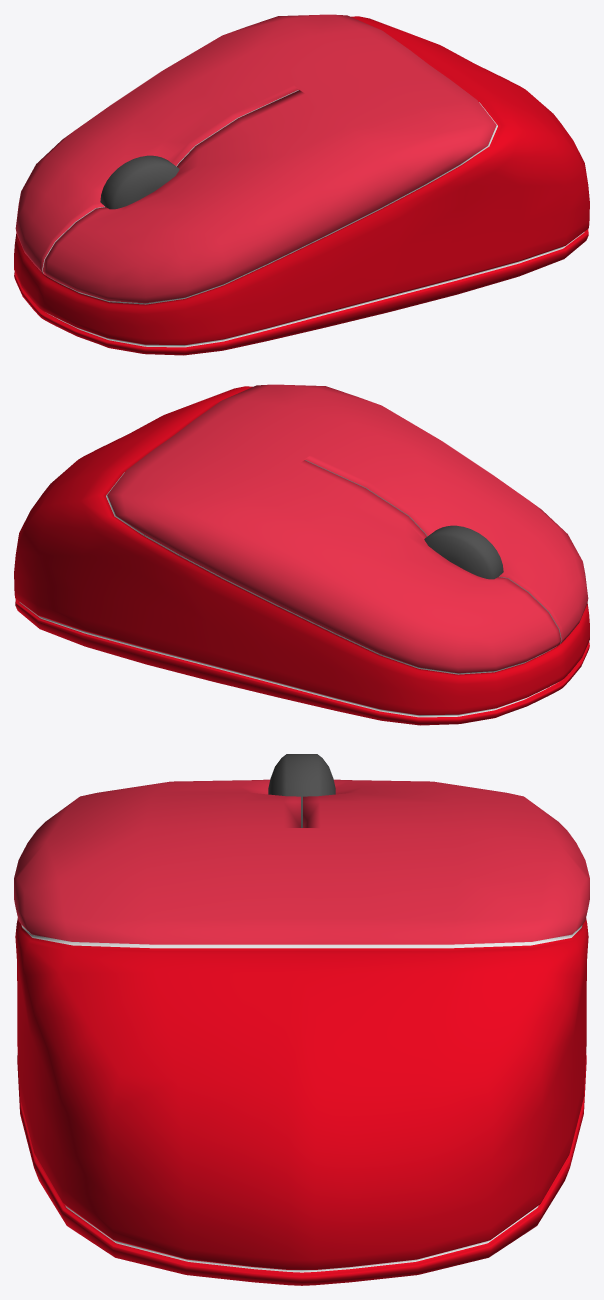
Rendered from mouse.fbx.
3 renders of one model, top to bottom at view 1: azimuth 30°, elevation 25°; view 2: azimuth 150°, elevation 25°; view 3: azimuth 270°, elevation 25°, orthographic. The views are drawn at different scales.
Visible parts, largest first — view 1: mouse.001; view 2: mouse.001; view 3: mouse.001.
Part boxes in pixels (<box>): mouse.001: <box>14,14,589,355</box>; mouse.001: <box>14,384,589,725</box>; mouse.001: <box>14,754,589,1285</box>.
Bounding box in the file's own units: 135 × 42.63 × 82.09.
